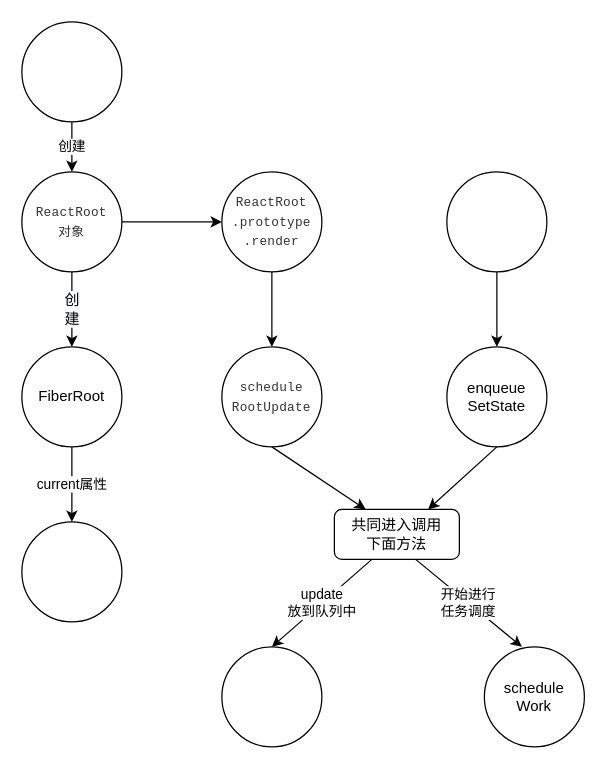
This 606x769 diagram has some shape labels left out. Each missing label, with the centre of its shape:
"enqueue Update" belongs at (271,696).
"Fiber （记录节点的各种状态）" belongs at (71,571).
"ReactDom .render" belongs at (71,71).
"setState/ forceUpdate" belongs at (496,221).
